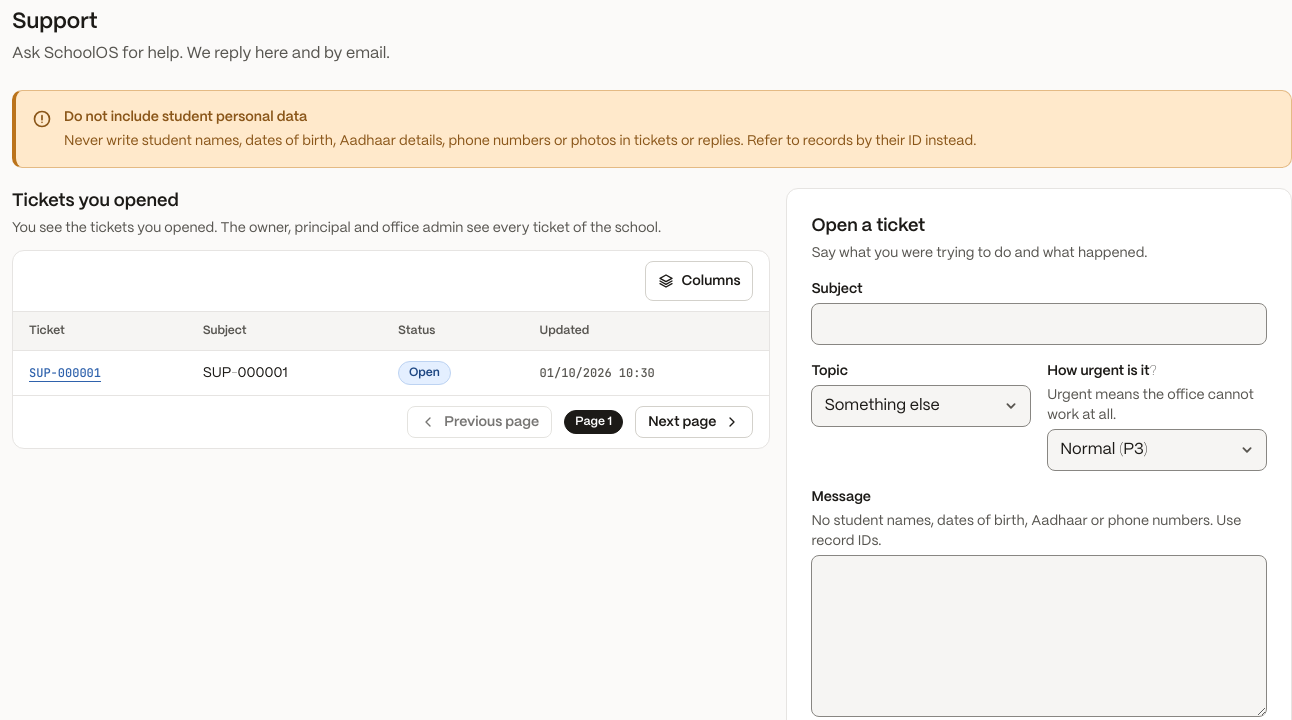
support (FR-PLT-027) › pages through more than 100 of the school's tickets (WEB-05)
Check: the link "SUP-000001" is shown, box [29, 365, 101, 381]
Click the button "Next page": coordinates (694, 422) [635, 406, 753, 438]
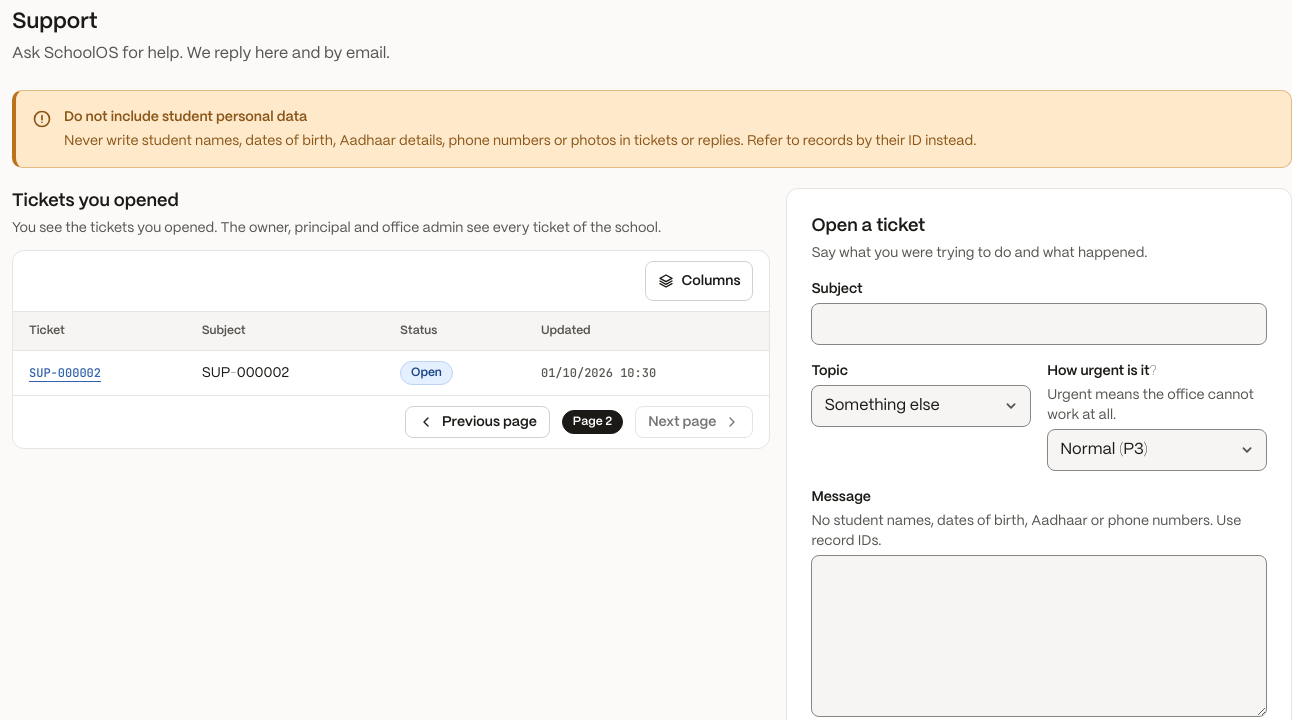
Check: the link "SUP-000002" is shown, box [29, 365, 101, 381]
